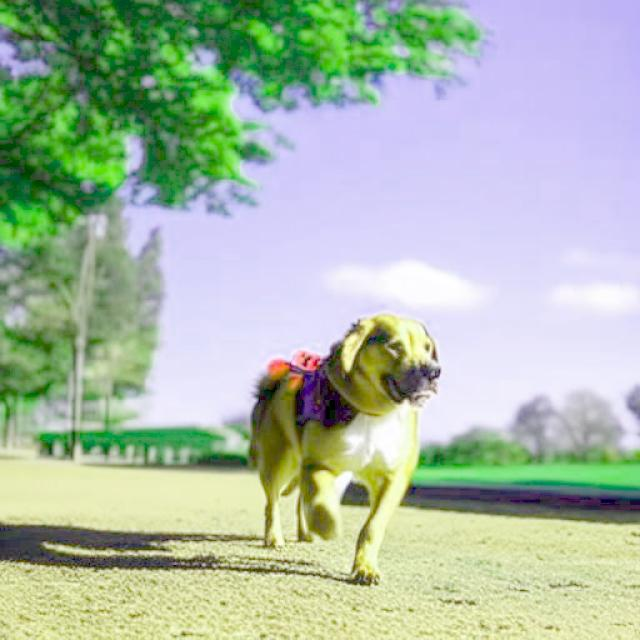Dog: (245, 313, 443, 586)
